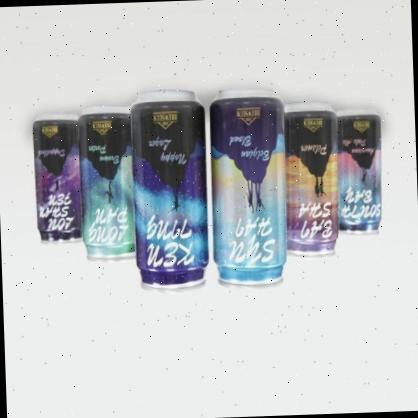can: (130, 89, 213, 298), (207, 84, 290, 290), (78, 106, 138, 268), (284, 107, 340, 262), (32, 118, 86, 247), (337, 107, 383, 239)
